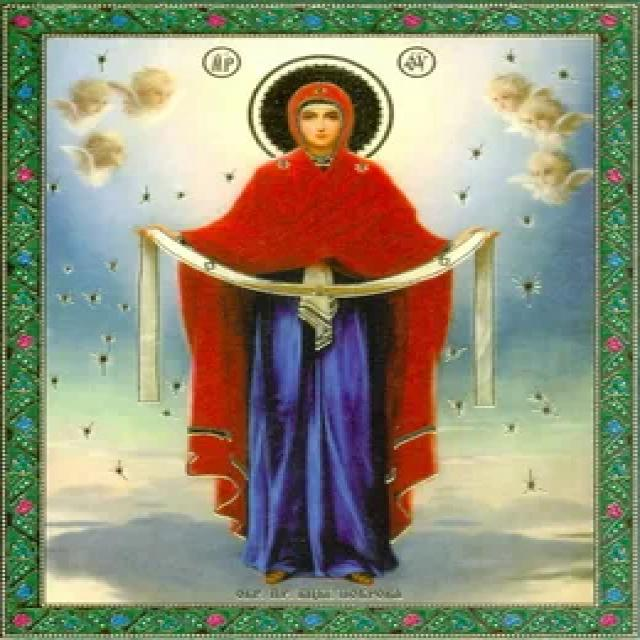mother of god: (141, 73, 502, 581)
